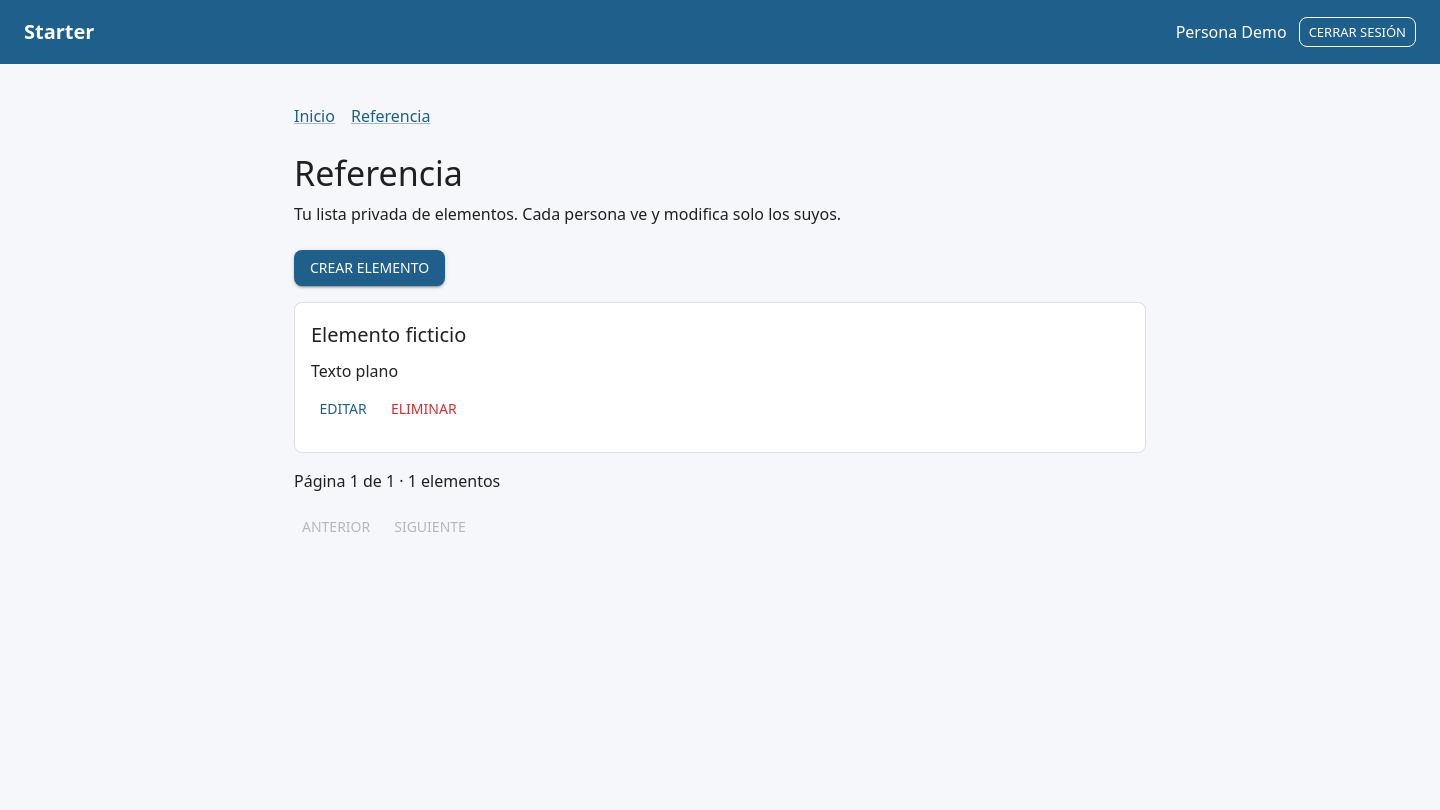
Test case: ReferencePage › handles a retired resource without claiming success and refreshes on return
The width and height of the screenshot is (1440, 810).
Expected: the heading "Elemento ficticio" is shown, [311,322,466,348]
Click the button "Editar". click: [343, 410]
box: [311,392,375,428]
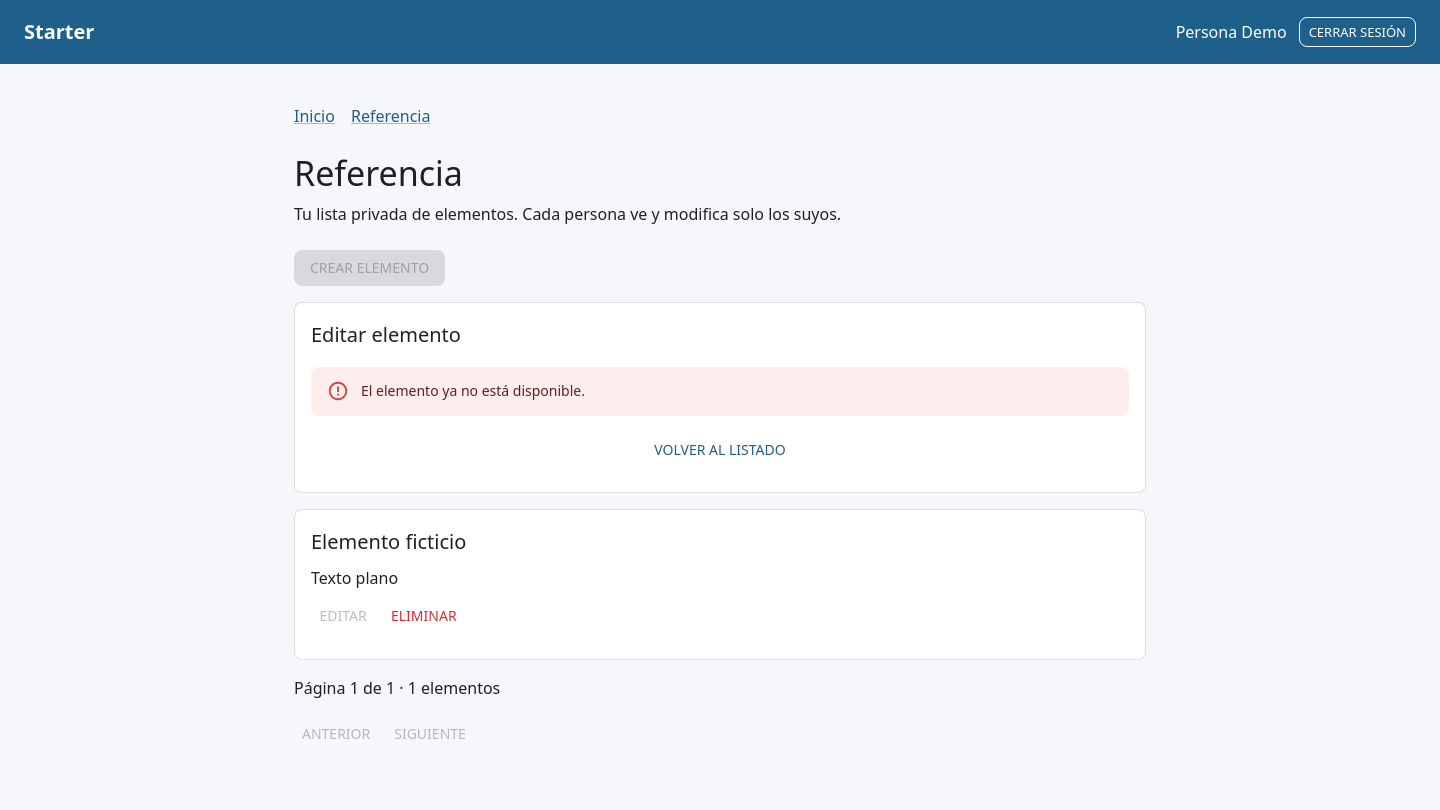
Now the text "El elemento ya no está disponible." is shown, box [361,382,585,400]
Click the button "Volver al listado". click: [720, 450]
box: [311,432,1129,468]
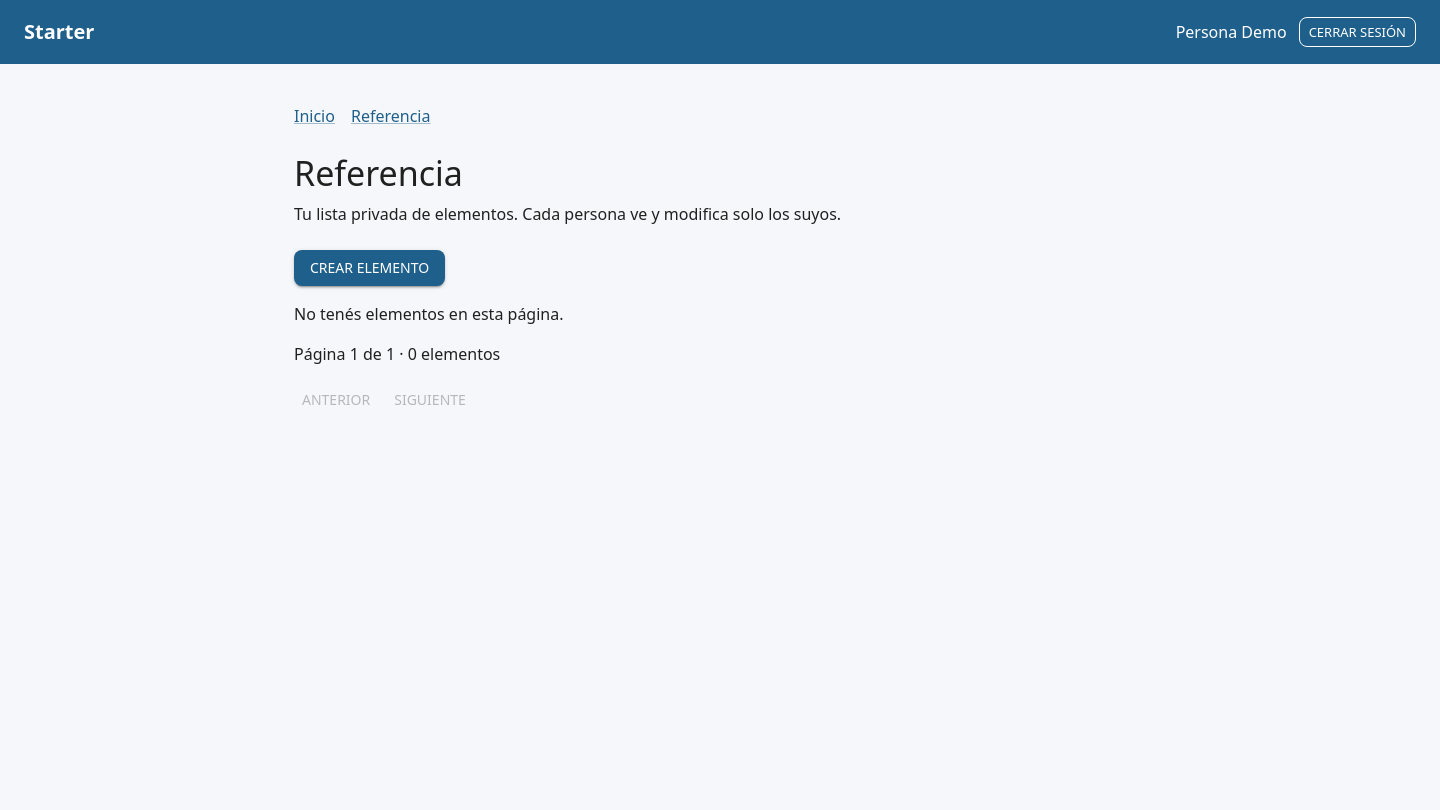
Now the text "No tenés elementos en esta página." is shown, box [294,304,564,326]
